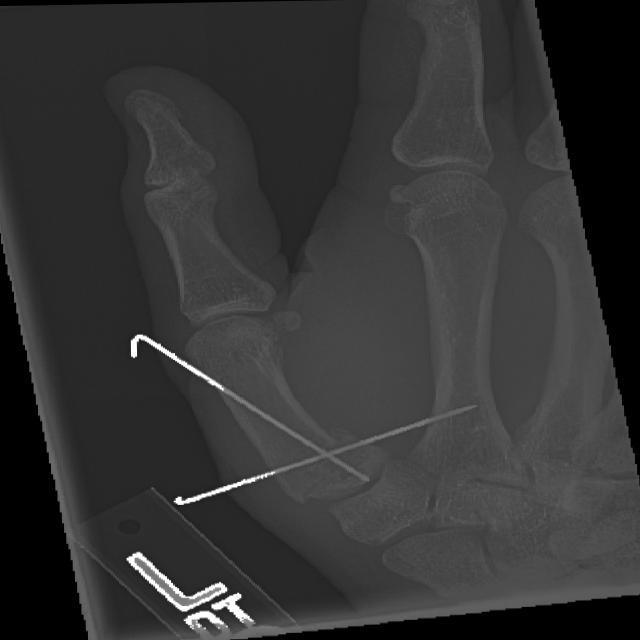fingers positive: (257, 398, 418, 550)
